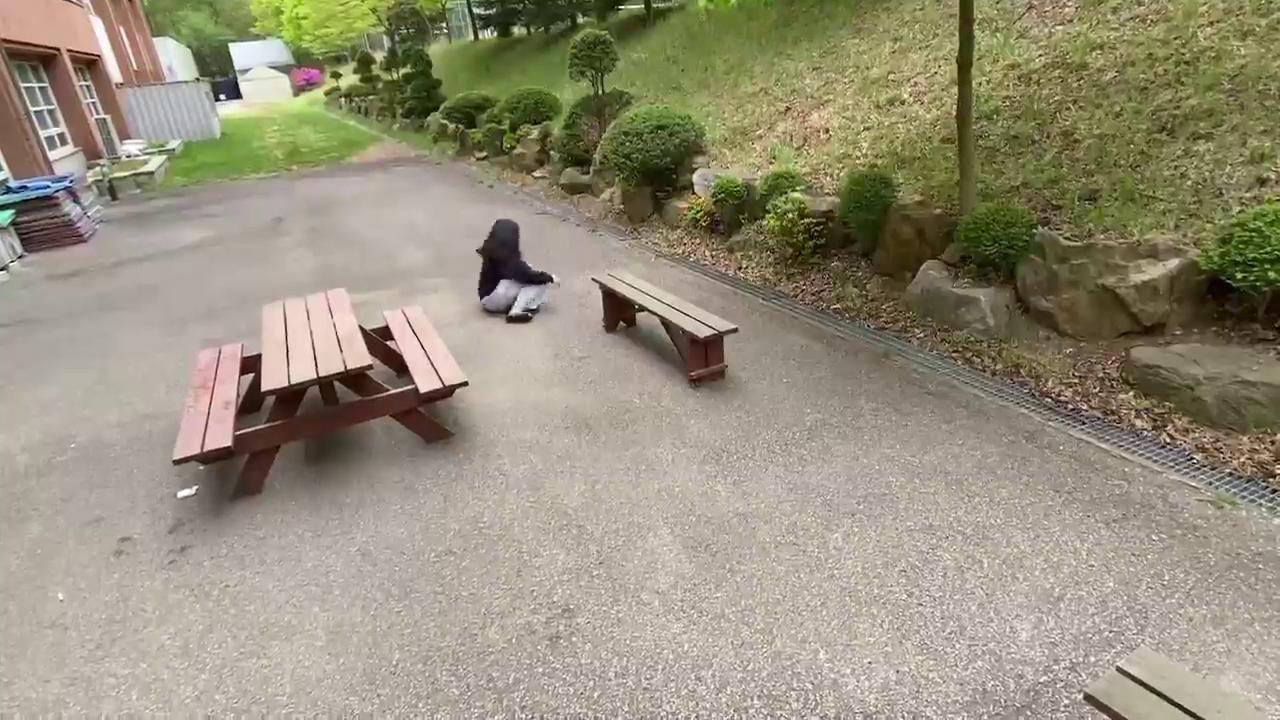fall_down: (474, 216, 563, 324)
